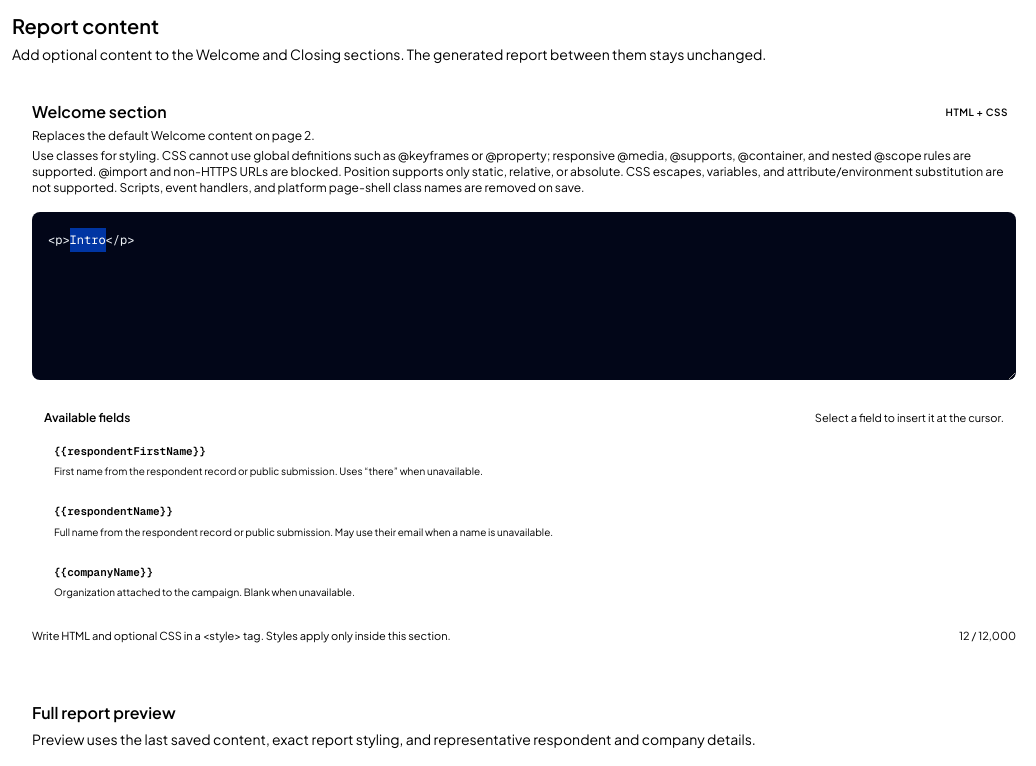
it: ReportsTab › inserts a field over the current selection and restores the caret
Click the button with aria-label "Insert First name placeholder": (130, 450) [44,434,1004,487]
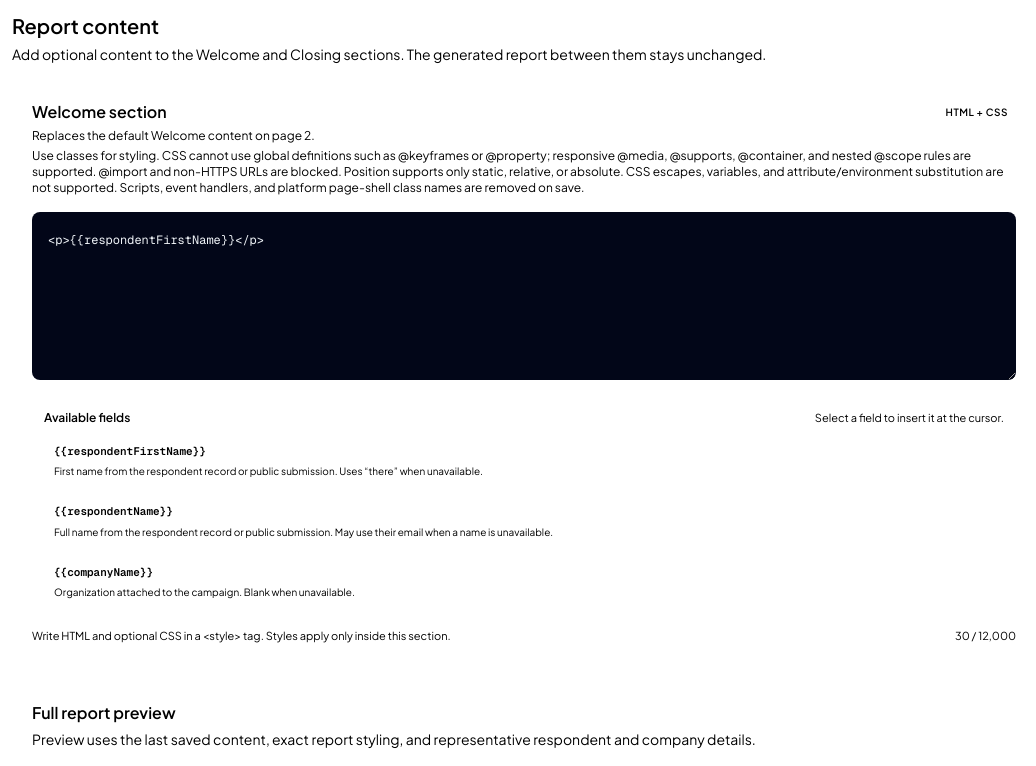
Expected: the text box named "Introduction / preface HTML" holds "<p>{{respondentFirstName}}</p>", [32,212,1016,380]
